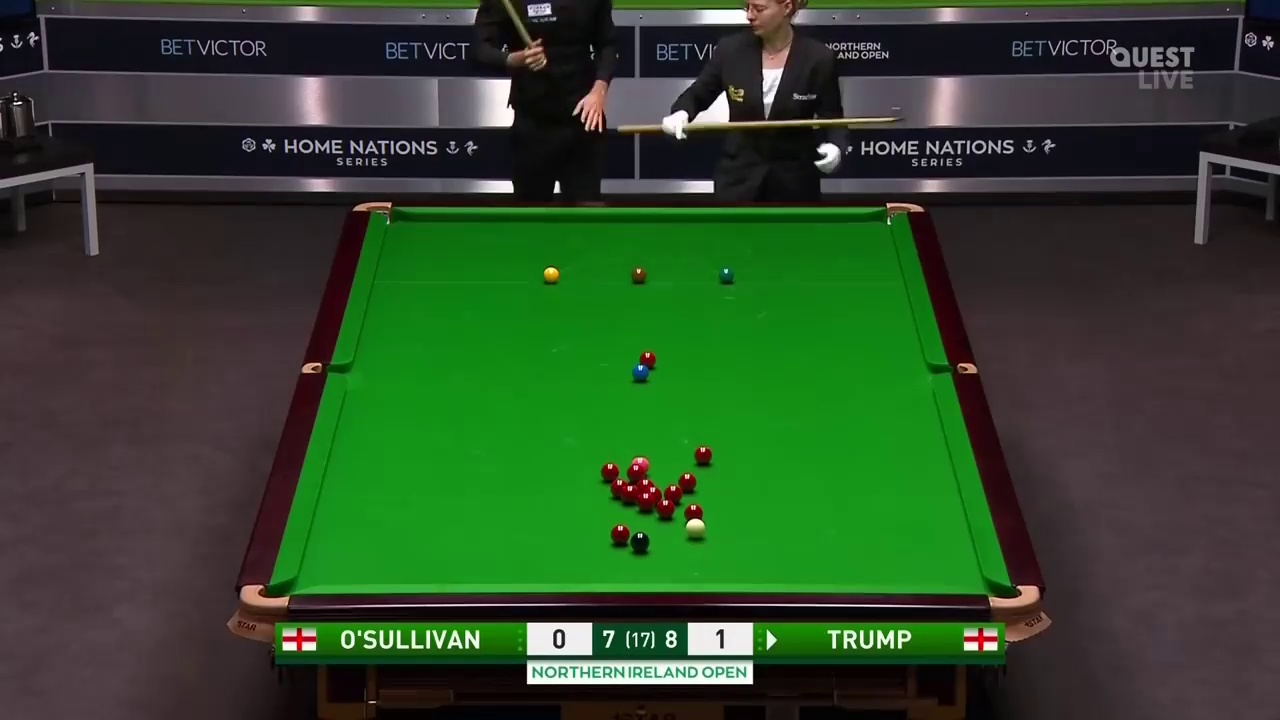black: (629, 534, 647, 553)
blue: (633, 363, 649, 380)
brown: (630, 265, 647, 282)
green: (717, 267, 735, 281)
red: (600, 462, 619, 482), (636, 495, 656, 512), (696, 444, 712, 464), (613, 526, 629, 545), (679, 474, 696, 491)
white: (683, 518, 707, 539)
yellow: (542, 265, 561, 283)
